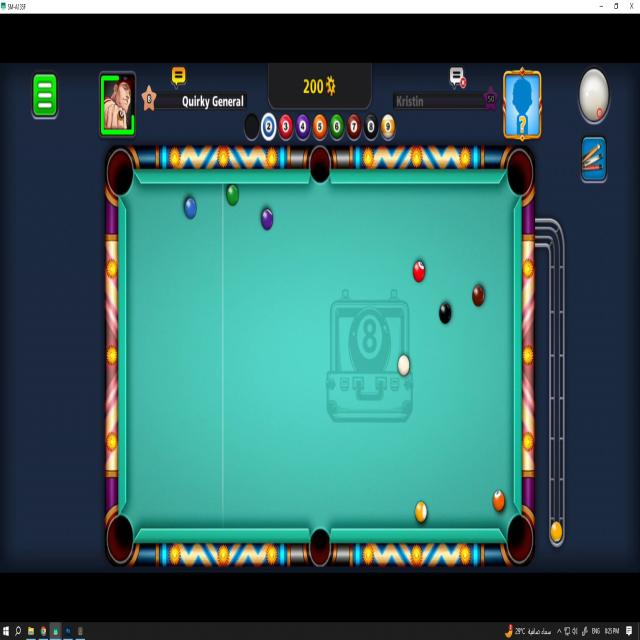object_ball: (184, 198, 197, 220), (439, 303, 451, 324), (413, 261, 425, 282), (261, 210, 273, 230), (415, 502, 427, 522), (227, 185, 238, 206), (493, 491, 504, 511), (473, 286, 484, 306)
white_cue_ball: (398, 354, 410, 376)
